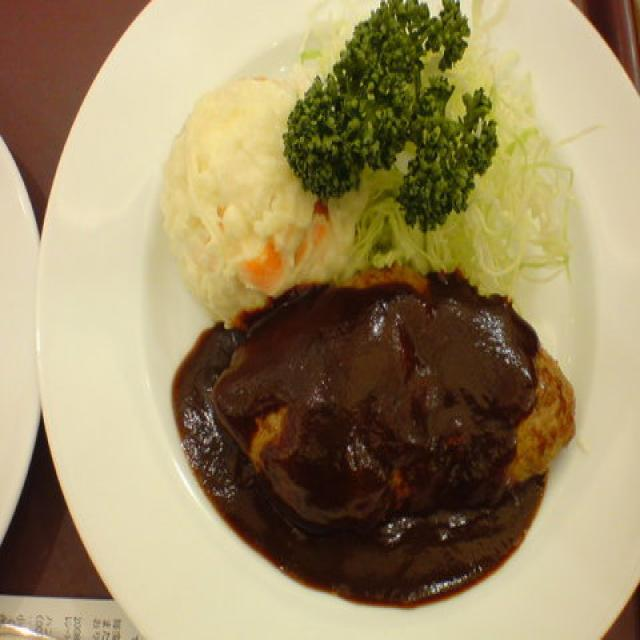蔬菜料理: (300, 15, 569, 294), (149, 69, 335, 304)
